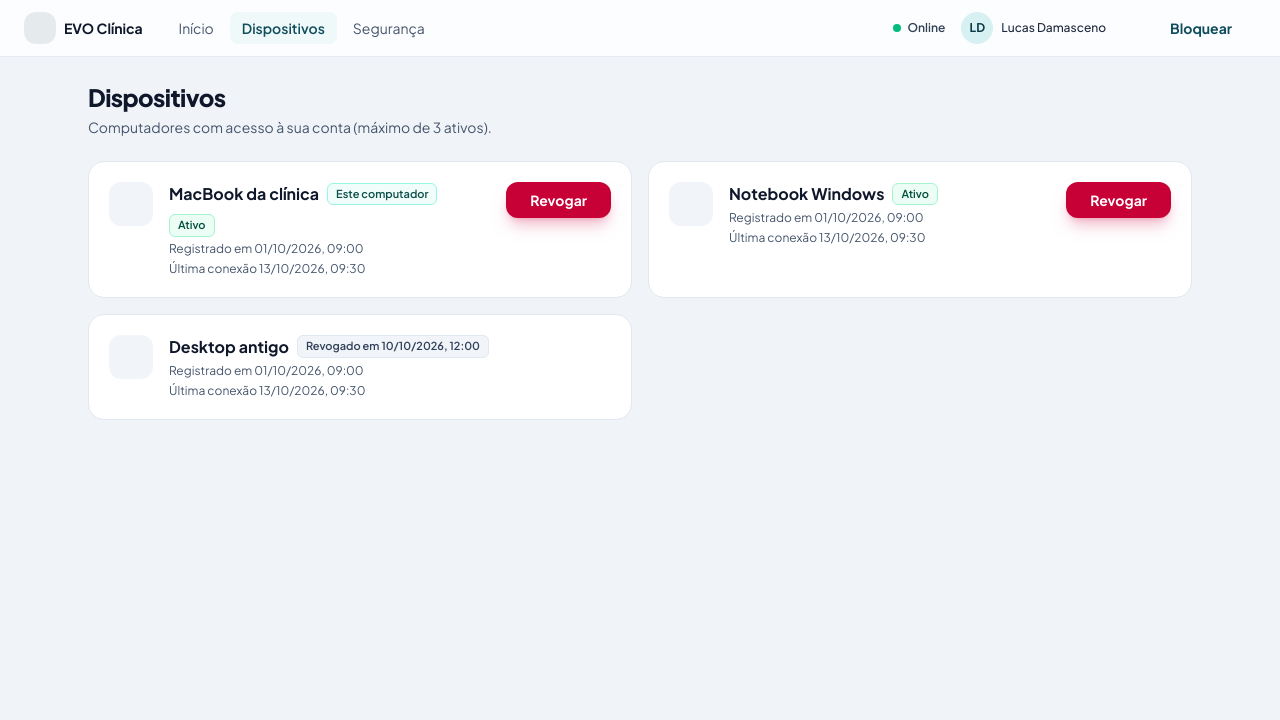
Test: DispositivosTela › modal de revogação › avisa quando o dispositivo é o computador em uso
The width and height of the screenshot is (1280, 720).
What coordinates should you click on to do the following:
click the button with aria-label "Revogar MacBook da clínica"
I would click on:
 (559, 200)
Its box is [506,182,611,218].
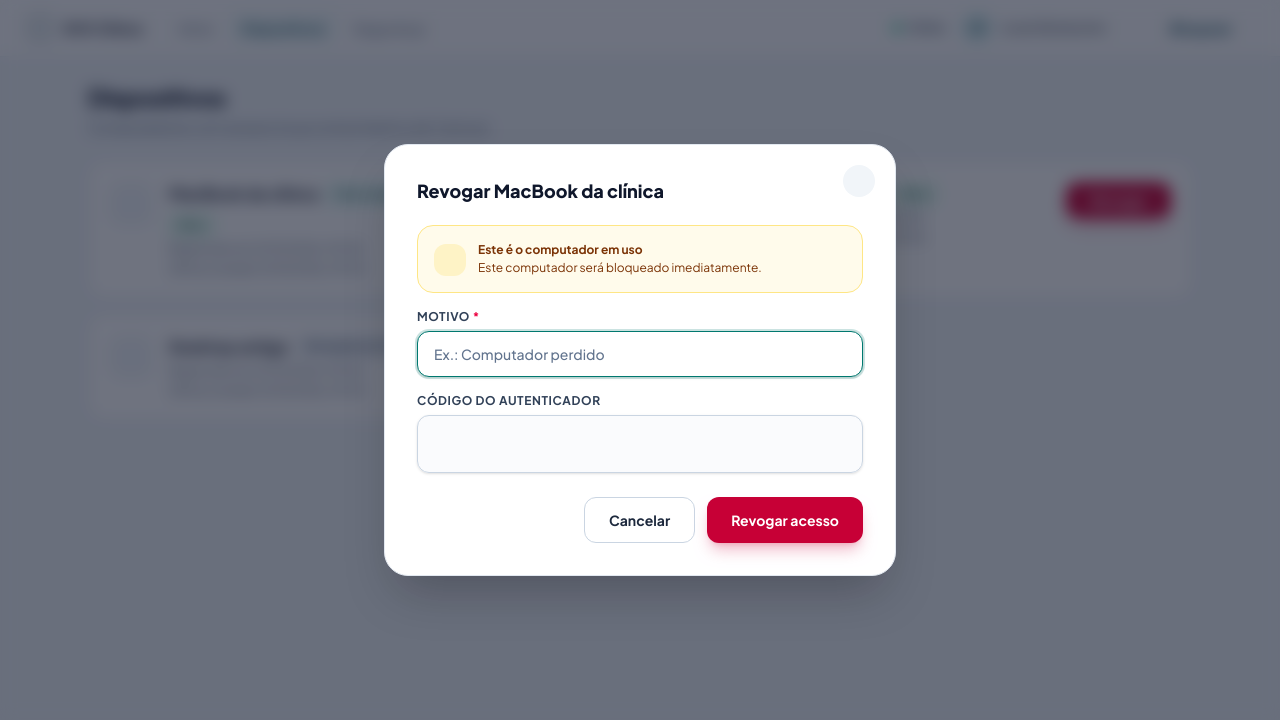
Expected: the text "Este computador será bloqueado imediatamente." is shown, [478,260,762,275]
